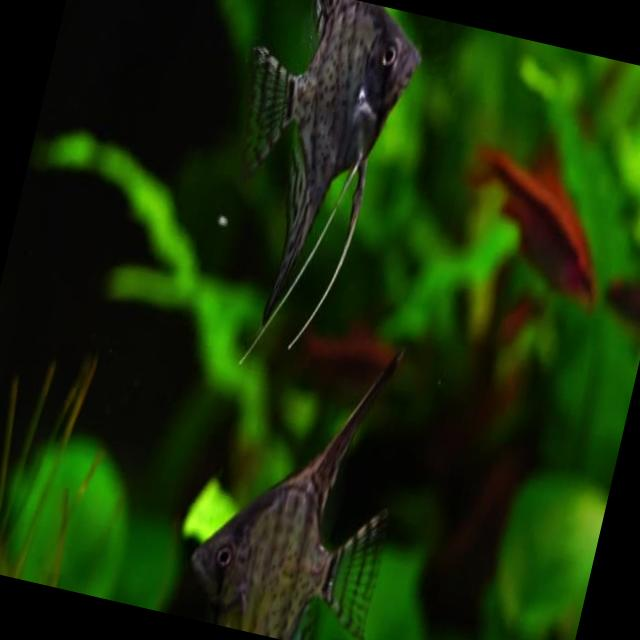AngelFish: (194, 0, 432, 345), (178, 317, 429, 640)
